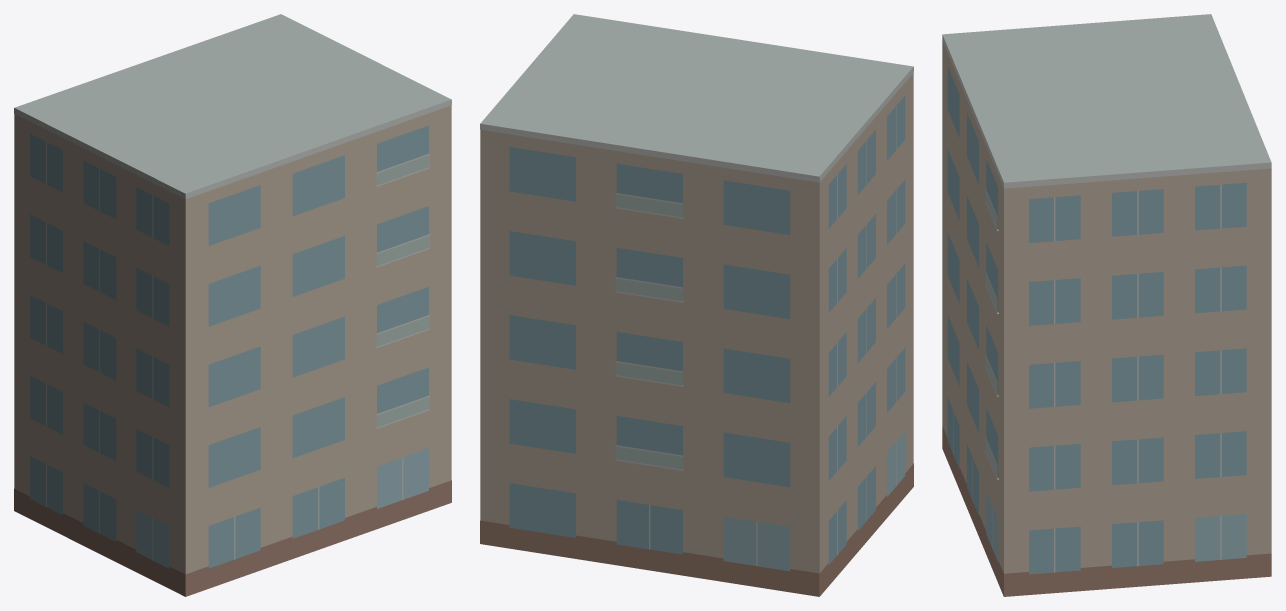
Rendered from survey-upis-32750956.glb.
3 renders of one model, left to right at view 1: azimuth 30°, elevation 25°; view 2: azimuth 150°, elevation 25°; view 3: azimuth 270°, elevation 25°, orthographic. The views are drawn at different scales.
Visible parts, largest first — view 1: survey-upis-32750956.tmp; view 2: survey-upis-32750956.tmp; view 3: survey-upis-32750956.tmp.
Boxes of the visible parts, x1,y1,x2,y2 form: survey-upis-32750956.tmp: [14, 14, 451, 596]; survey-upis-32750956.tmp: [480, 14, 913, 596]; survey-upis-32750956.tmp: [942, 14, 1271, 596].
Bounding box in the file's own units: 14.95 × 17.1 × 12.33.
